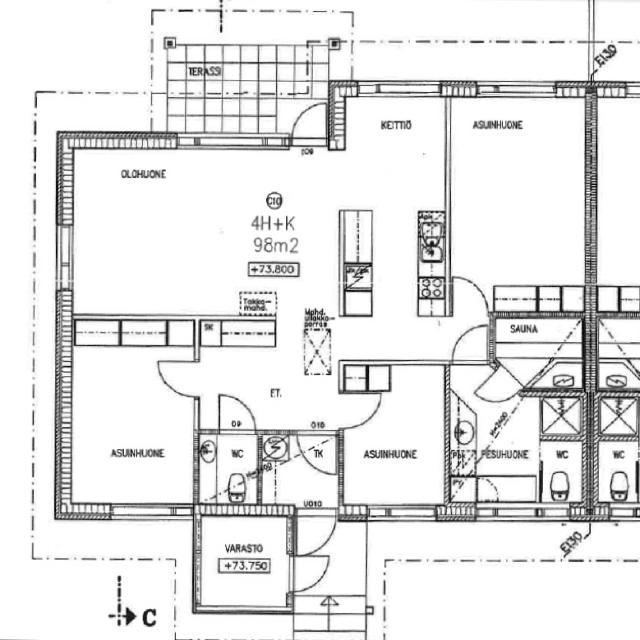door: (293, 510, 338, 558), (447, 321, 491, 366), (450, 274, 494, 319), (215, 390, 258, 434), (287, 99, 329, 144), (296, 432, 338, 476), (286, 553, 330, 594), (154, 358, 199, 397), (339, 391, 382, 430)
window: (474, 78, 559, 101), (51, 222, 78, 293), (355, 78, 441, 100), (364, 501, 440, 525), (109, 501, 182, 523), (478, 503, 540, 523), (605, 506, 639, 524), (537, 506, 573, 523)
zone: (71, 140, 345, 322), (444, 89, 594, 314), (338, 95, 444, 367), (60, 318, 200, 506), (339, 364, 447, 517), (194, 513, 295, 612), (489, 314, 585, 392), (263, 432, 337, 509), (195, 432, 260, 504), (590, 439, 640, 516), (538, 439, 588, 511), (418, 215, 447, 279), (536, 285, 588, 315), (292, 627, 369, 640)
